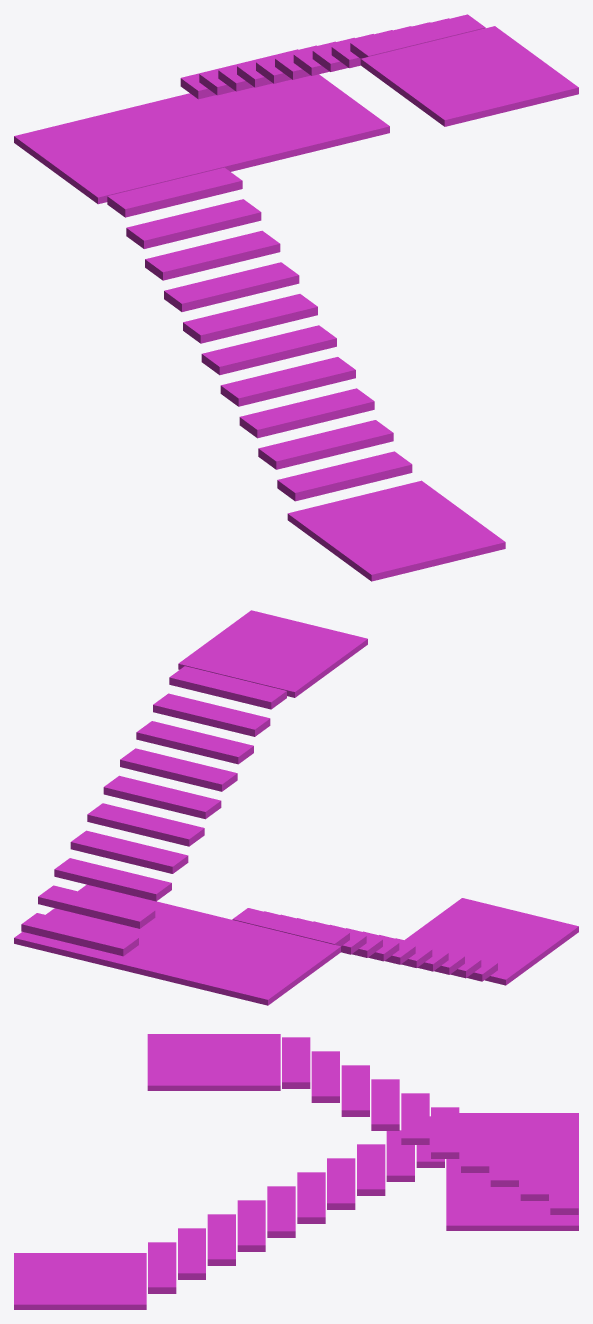
Rendered from ProjectZ_ESC30_FireEscape_Collision.glb.
The picture shows the model from 3 angles, top to bottom: view 1: azimuth 30°, elevation 25°; view 2: azimuth 150°, elevation 25°; view 3: azimuth 270°, elevation 25°; orthographic projection. The views are drawn at different scales.
Visible parts, largest first — view 1: UCX_SwitchbackLanding_01, UCX_EntryLanding_01, UCX_ExitLanding_01, UCX_FlightA_Step_01, UCX_FlightA_Step_03, UCX_FlightA_Step_09, UCX_FlightA_Step_04, UCX_FlightA_Step_07, UCX_FlightA_Step_08, UCX_FlightA_Step_02, UCX_FlightA_Step_10, UCX_FlightA_Step_05 (+2 smaller); view 2: UCX_SwitchbackLanding_01, UCX_ExitLanding_01, UCX_EntryLanding_01, UCX_FlightB_Step_04, UCX_FlightB_Step_06, UCX_FlightB_Step_01, UCX_FlightB_Step_03, UCX_FlightB_Step_05, UCX_FlightB_Step_07, UCX_FlightB_Step_09, UCX_FlightB_Step_10, UCX_FlightB_Step_02 (+2 smaller); view 3: UCX_SwitchbackLanding_01, UCX_ExitLanding_01, UCX_EntryLanding_01, UCX_FlightA_Step_01, UCX_FlightA_Step_03, UCX_FlightA_Step_04, UCX_FlightA_Step_05, UCX_FlightA_Step_06, UCX_FlightA_Step_07, UCX_FlightA_Step_08, UCX_FlightB_Step_01, UCX_FlightB_Step_02 (+11 smaller).
Part boxes in pixels (left/top/right/bottom): UCX_SwitchbackLanding_01: left=14, top=74, right=389, bottom=204; UCX_EntryLanding_01: left=287, top=480, right=505, bottom=581; UCX_ExitLanding_01: left=360, top=26, right=578, bottom=126; UCX_FlightA_Step_01: left=277, top=451, right=412, bottom=501; UCX_FlightA_Step_03: left=239, top=388, right=374, bottom=438; UCX_FlightA_Step_09: left=126, top=199, right=261, bottom=248; UCX_FlightA_Step_04: left=220, top=357, right=355, bottom=406; UCX_FlightA_Step_07: left=164, top=262, right=299, bottom=311; UCX_FlightA_Step_08: left=145, top=230, right=280, bottom=280; UCX_FlightA_Step_02: left=258, top=420, right=393, bottom=469; UCX_FlightA_Step_10: left=107, top=167, right=242, bottom=217; UCX_FlightA_Step_05: left=201, top=325, right=336, bottom=375; UCX_SwitchbackLanding_01: left=14, top=884, right=340, bottom=1005; UCX_ExitLanding_01: left=178, top=610, right=367, bottom=697; UCX_EntryLanding_01: left=404, top=898, right=578, bottom=985; UCX_FlightB_Step_04: left=70, top=830, right=188, bottom=873; UCX_FlightB_Step_06: left=103, top=775, right=221, bottom=819; UCX_FlightB_Step_01: left=21, top=913, right=138, bottom=956; UCX_FlightB_Step_03: left=54, top=858, right=171, bottom=901; UCX_FlightB_Step_05: left=87, top=803, right=204, bottom=846; UCX_FlightB_Step_07: left=120, top=748, right=237, bottom=791; UCX_FlightB_Step_09: left=153, top=693, right=270, bottom=736; UCX_FlightB_Step_10: left=169, top=666, right=286, bottom=709; UCX_FlightB_Step_02: left=38, top=885, right=155, bottom=928; UCX_SwitchbackLanding_01: left=446, top=1113, right=578, bottom=1230; UCX_ExitLanding_01: left=147, top=1034, right=280, bottom=1090; UCX_EntryLanding_01: left=14, top=1253, right=146, bottom=1309; UCX_FlightA_Step_01: left=148, top=1242, right=176, bottom=1293; UCX_FlightA_Step_03: left=207, top=1214, right=235, bottom=1265; UCX_FlightA_Step_04: left=237, top=1200, right=265, bottom=1251; UCX_FlightA_Step_05: left=267, top=1186, right=295, bottom=1237; UCX_FlightA_Step_06: left=297, top=1172, right=325, bottom=1223; UCX_FlightA_Step_07: left=327, top=1158, right=355, bottom=1209; UCX_FlightA_Step_08: left=357, top=1144, right=385, bottom=1195; UCX_FlightB_Step_01: left=550, top=1163, right=578, bottom=1214; UCX_FlightB_Step_02: left=520, top=1149, right=548, bottom=1200.
Size of the model in its own units: 2.59 by 3.06 by 5.49.
